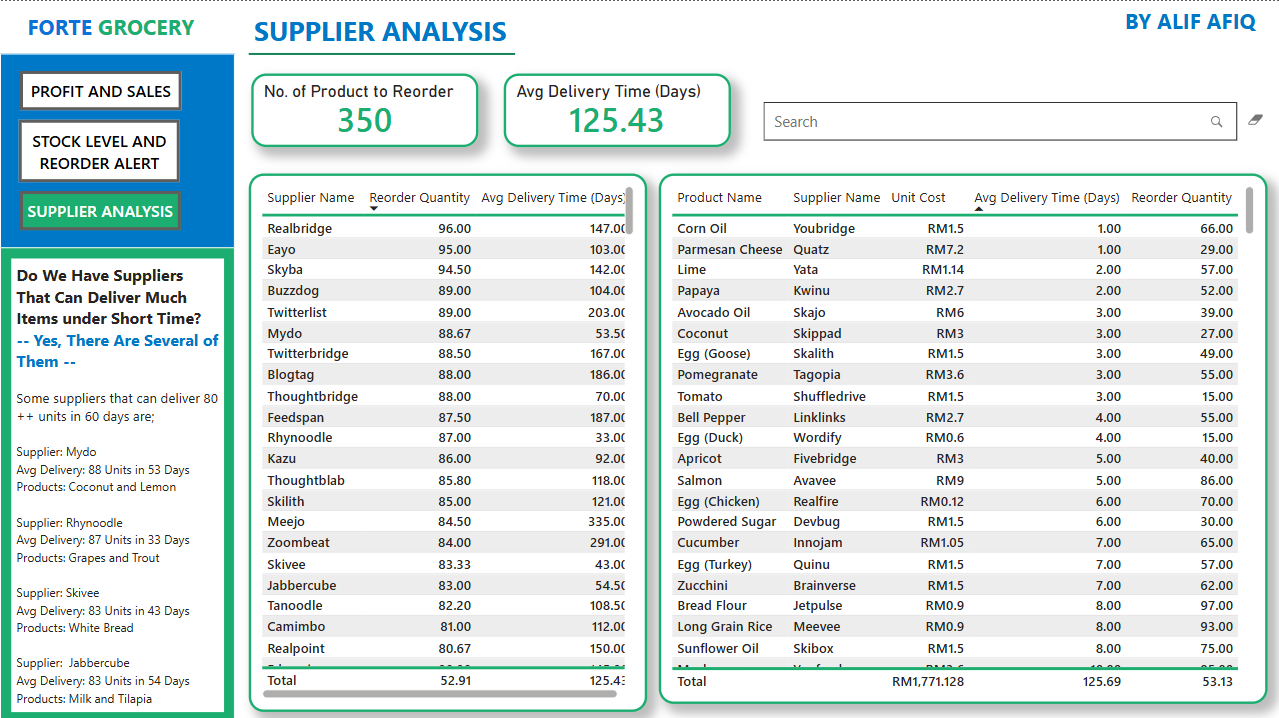

The dashboard page shown, as its layout file describes it:
{"tool":"powerbi","page":{"name":"SUPPLIER ANALYSIS","canvas":[1280,720],"ordinal":2},"visuals":[{"type":"shape","box":[0,52.5,235,667.5],"z":0},{"type":"textbox","box":[22.5,6.2,190,45],"z":1000},{"type":"textbox","box":[248.2,5.8,512.2,54.8],"z":2000},{"type":"shape","box":[248.8,33.8,266.2,38.8],"z":3000},{"type":"card","title":"No. of Product to Reorder","fields":{"Values":["Count(Forte_Grocery.Supplier_Name)"]},"box":[251.2,72.5,227.5,73.8],"z":4000},{"type":"tableEx","fields":{"Values":["Forte_Grocery.Supplier_Name","Avg(Forte_Grocery.Reorder_Quantity)","Key Measures.Avg Delivery Time (Days)"]},"box":[248.8,172.5,398.8,538.8],"z":5000},{"type":"tableEx","fields":{"Values":["Forte_Grocery.Product_Name","Forte_Grocery.Supplier_Name","Sum(Forte_Grocery.Unit Cost)","Key Measures.Avg Delivery Time (Days)","Avg(Forte_Grocery.Reorder_Quantity)"]},"box":[658.8,172.5,608.8,530],"z":6000},{"type":"card","title":"Avg Delivery Time (Days)","fields":{"Values":["Key Measures.Avg Delivery Time (Days)"]},"box":[503.8,72.5,227.5,73.8],"z":7000},{"type":"actionButton","box":[20.4,69.5,161.8,39.6],"z":8000},{"type":"actionButton","box":[18.8,118.8,161.2,62.5],"z":9000},{"type":"actionButton","box":[20.4,190.6,160.6,39.6],"z":10000},{"type":"textFilter25A4896A83E0487089E2B90C9AE57C8A","fields":{"field":["Forte_Grocery.SearchFilter"]},"box":[758.6,95.7,521.4,54.3],"z":11000},{"type":"shape","box":[0,246.2,235,473.8],"z":12000},{"type":"textbox","box":[11.2,257.5,212.5,453.8],"z":12001},{"type":"textbox","box":[1120,0,160,45],"z":12002}]}

Visuals, with their boxes in screenshot pixels (x1, y1, x2, y2), scaled from the page's 1280x720 canvas onto the 1279x718 screenshot:
shape: 0/52/235/717
textbox: 22/6/212/51
textbox: 248/6/760/60
shape: 249/34/515/72
"No. of Product to Reorder" card: 251/72/478/146
tableEx - Forte_Grocery.Supplier_Name x Avg(Forte_Grocery.Reorder_Quantity): 249/172/647/709
tableEx - Forte_Grocery.Product_Name x Forte_Grocery.Supplier_Name: 658/172/1267/701
"Avg Delivery Time (Days)" card: 503/72/731/146
actionButton: 20/69/182/109
actionButton: 19/118/180/181
actionButton: 20/190/181/230
textFilter25A4896A83E0487089E2B90C9AE57C8A - Forte_Grocery.SearchFilter: 758/95/1278/150
shape: 0/246/235/717
textbox: 11/257/224/709
textbox: 1119/0/1278/45
